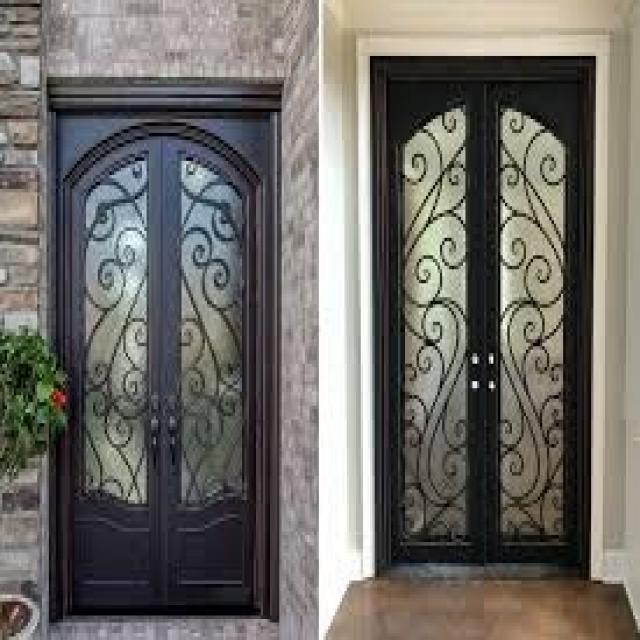door: (44, 94, 275, 605), (373, 63, 587, 570)
